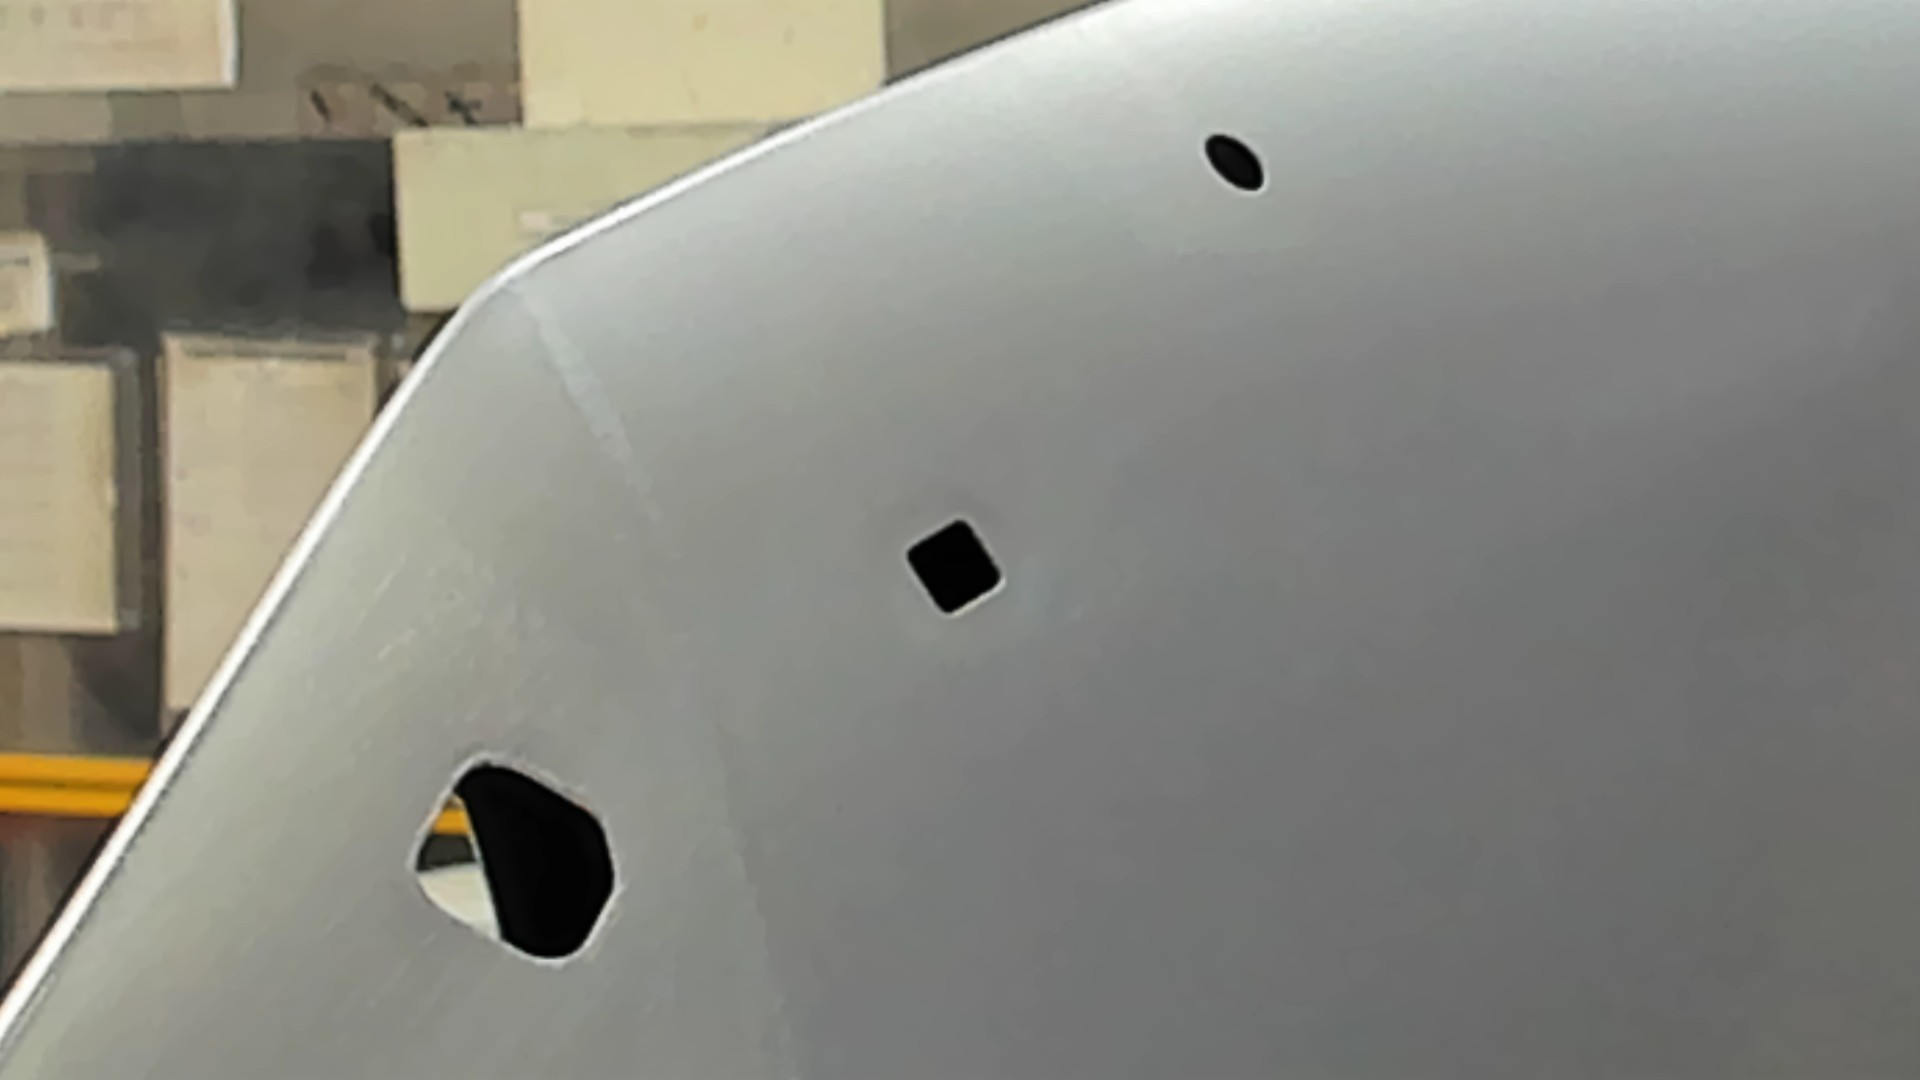chico: (1201, 127, 1267, 194)
grande: (406, 749, 625, 968)
mediano: (902, 512, 1006, 617)
